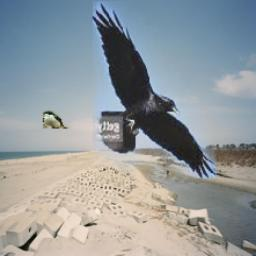Crow: (92, 2, 215, 180)
Swallow: (42, 112, 68, 130)
